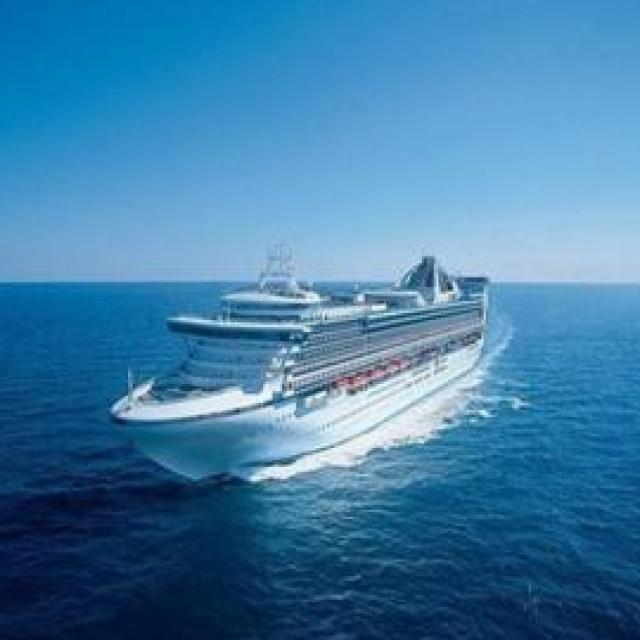passenger ship: (117, 254, 505, 486)
